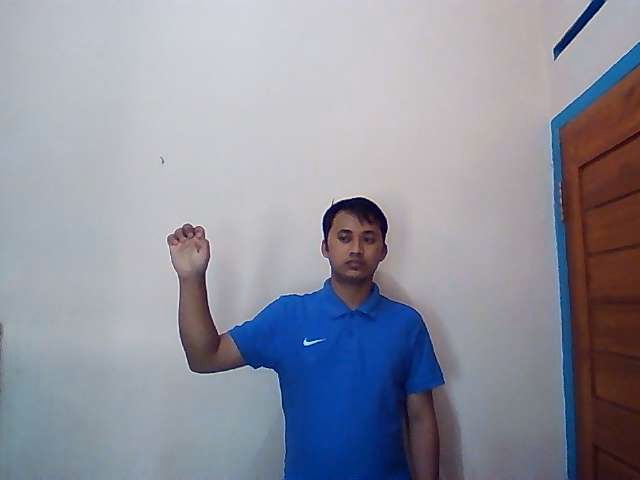E: (165, 223, 212, 278)
